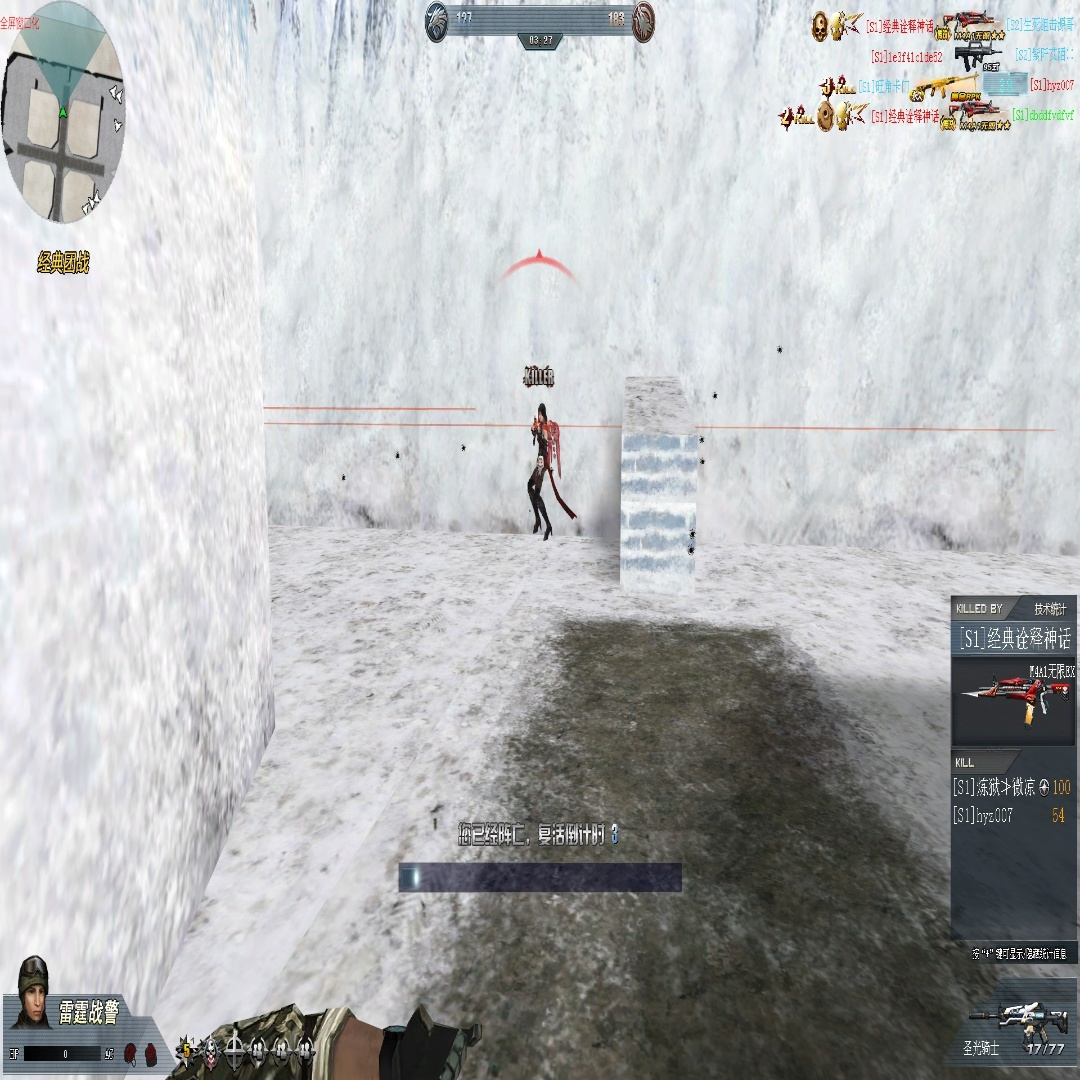t: (528, 403, 552, 541)
